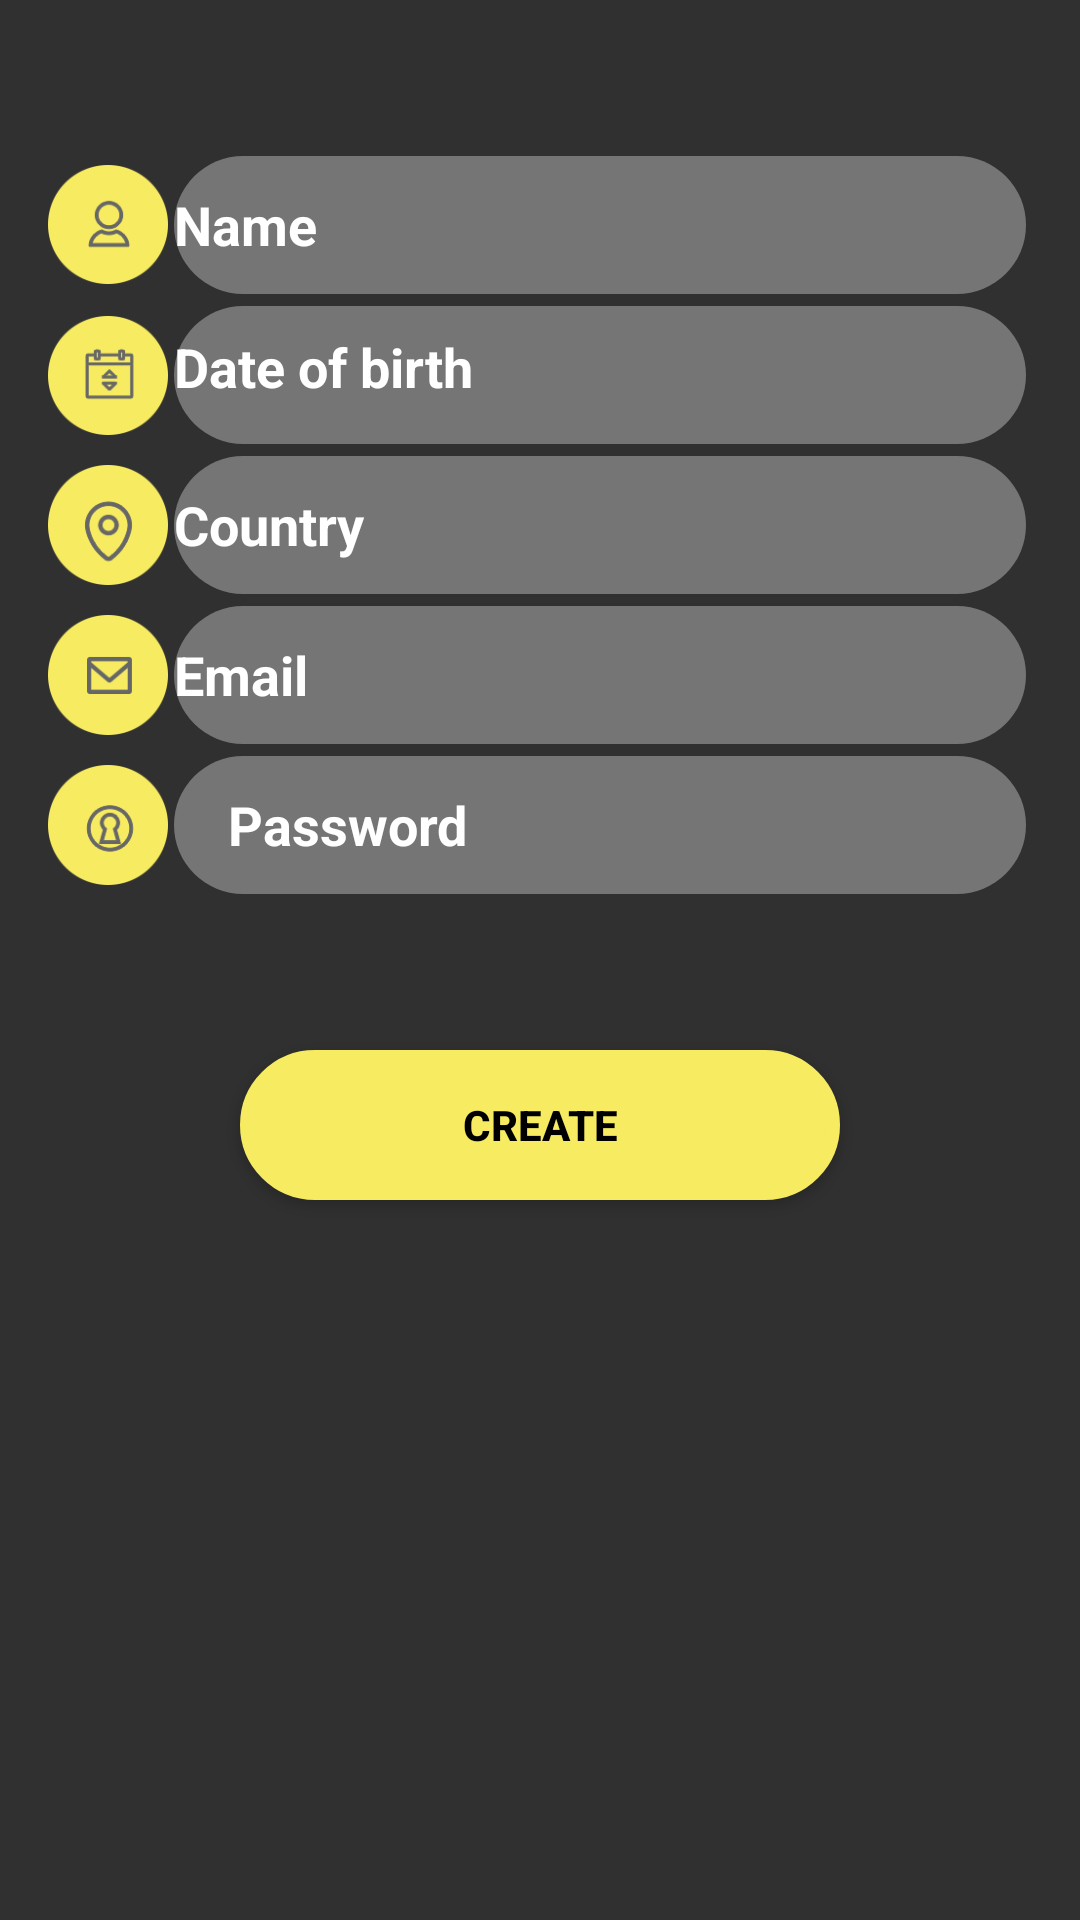

Where icons sit on this 1080px×1920px app screen, as (x1, y1, x2, y2):
age: (48, 316, 168, 435)
location: (48, 465, 168, 585)
